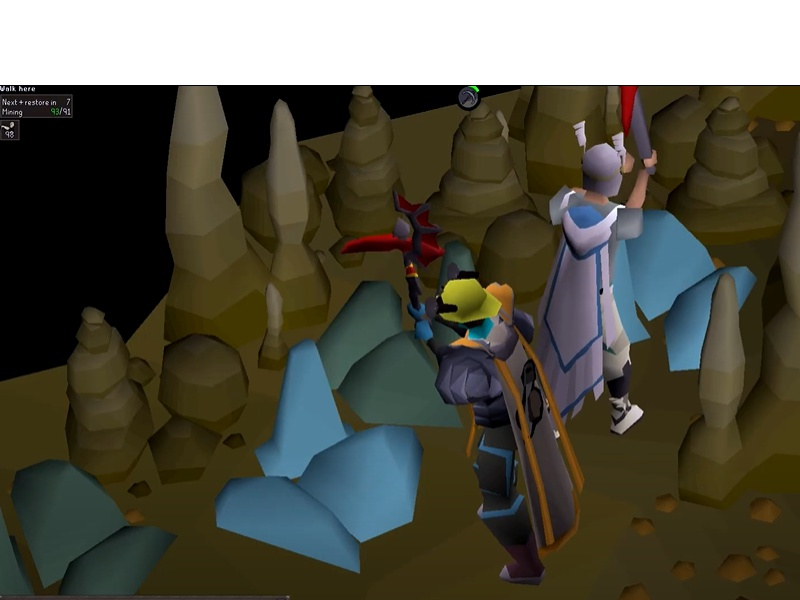adamant: (311, 235, 478, 435), (1, 450, 183, 599)
rune: (205, 336, 427, 581), (611, 205, 761, 382)
